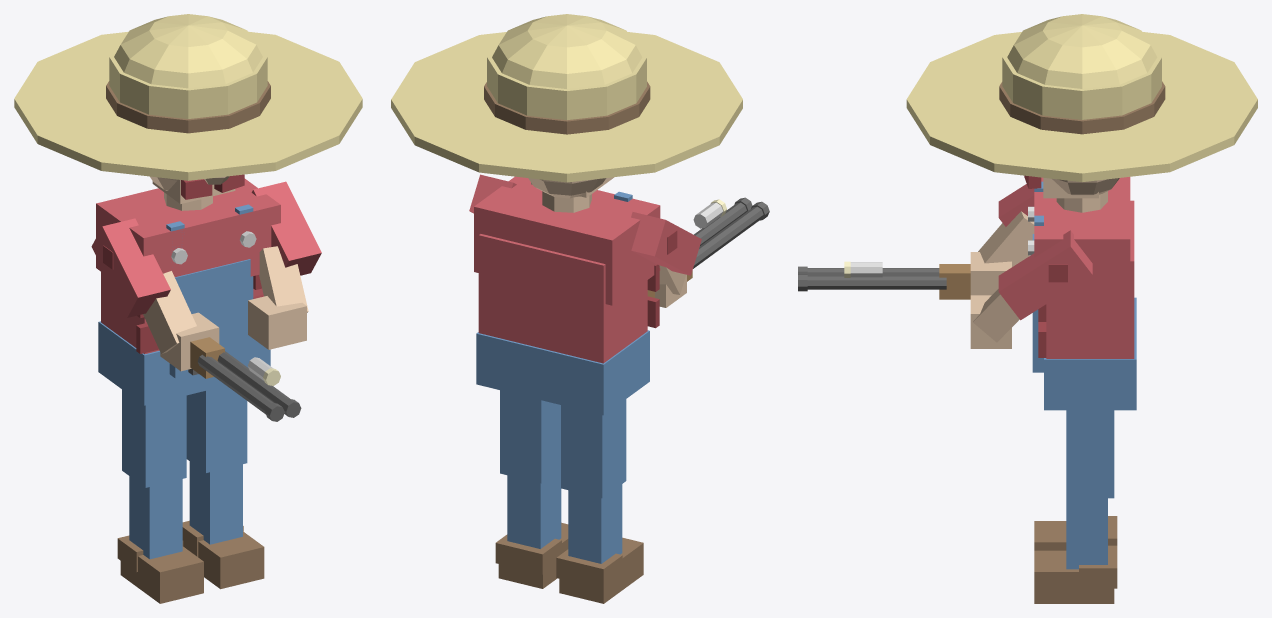
Rendered from farmer.glb.
3 views of the same model, side by side, from view 1: azimuth 30°, elevation 25°; view 2: azimuth 150°, elevation 25°; view 3: azimuth 270°, elevation 25° (orthographic).
Parts seen in each view (by area): view 1: head, torso, legR, legL, armR, armL, gun; view 2: head, torso, legR, legL, armR, gun, armL; view 3: head, torso, legL, armL, gun, armR, legR.
Boxes of the visible parts, x1,y1,x2,y2 form: head: [14, 14, 362, 203]; torso: [96, 178, 280, 405]; legR: [117, 389, 203, 603]; legL: [182, 385, 264, 589]; armR: [91, 218, 219, 371]; armL: [248, 181, 321, 349]; gun: [188, 337, 301, 421]; head: [391, 14, 742, 198]; torso: [474, 176, 660, 415]; legR: [556, 399, 643, 603]; legL: [495, 390, 568, 588]; armR: [631, 212, 701, 307]; gun: [647, 197, 769, 297]; armL: [469, 174, 516, 213]; head: [906, 14, 1257, 198]; torso: [1028, 177, 1136, 410]; legL: [1034, 410, 1117, 603]; armL: [970, 230, 1092, 348]; gun: [798, 261, 970, 299]; armR: [970, 184, 1034, 295]; legR: [1034, 516, 1117, 550].
Bounding box in the file's own units: 2.2 × 3.82 × 2.88.
